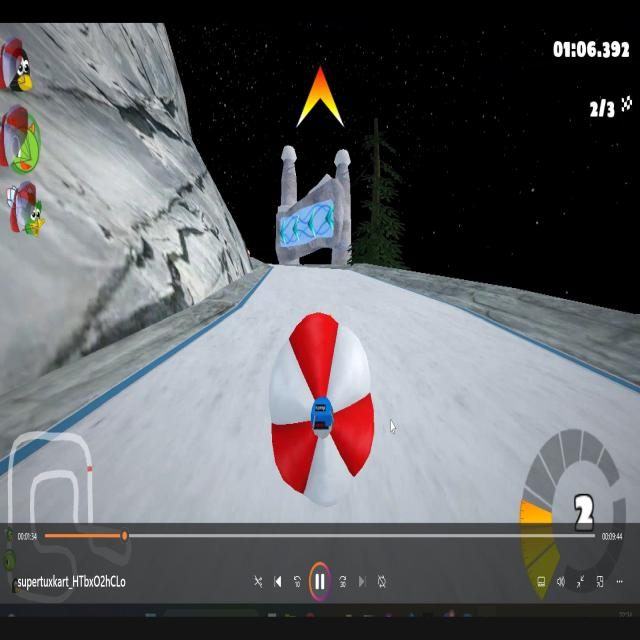track: (371, 323, 571, 425), (262, 264, 383, 306)
